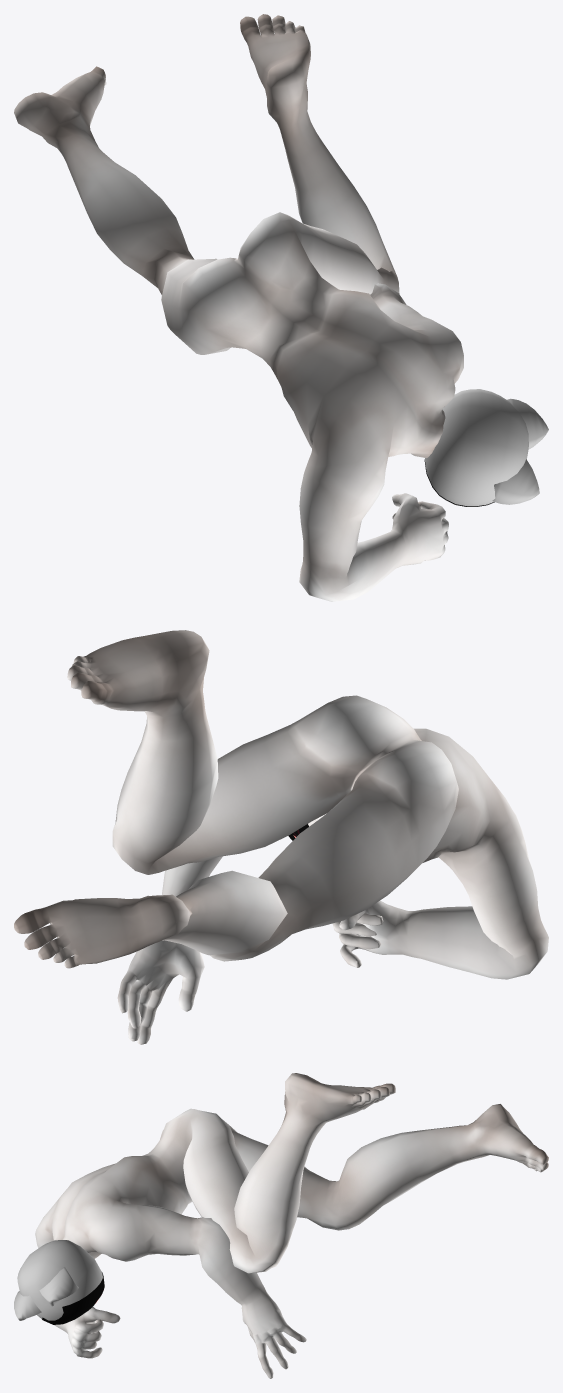
3 renders of one model, top to bottom at view 1: azimuth 30°, elevation 25°; view 2: azimuth 150°, elevation 25°; view 3: azimuth 270°, elevation 25°, orthographic. The views are drawn at different scales.
Parts seen in each view (by area): view 1: Muscle_Body, Cat_Head; view 2: Muscle_Body; view 3: Muscle_Body, Cat_Head, ______?001.
Part boxes in pixels (x1,y1,x2,y2): Muscle_Body: (14, 14, 463, 601); Cat_Head: (425, 389, 548, 506); Muscle_Body: (14, 630, 548, 1044); Muscle_Body: (35, 1073, 548, 1378); Cat_Head: (14, 1240, 102, 1320); ______?001: (42, 1272, 104, 1324).
Bounding box in the file's own units: 10.43 × 15.08 × 25.64.
